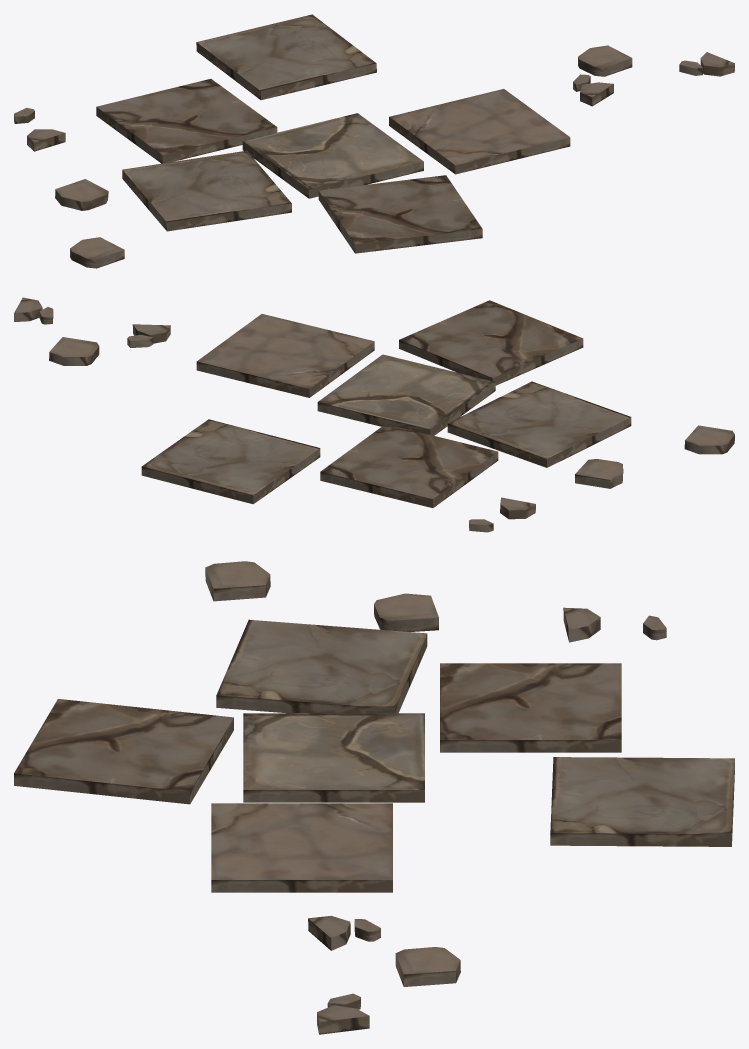
Rendered from handan_field_a_n02b.fbx.
3 views of the same model, one above another, from view 1: azimuth 30°, elevation 25°; view 2: azimuth 150°, elevation 25°; view 3: azimuth 270°, elevation 25° (orthographic). The views are drawn at different scales.
Visible parts, largest first — view 1: handan_field_a_n02b:handan_field_a_n02b; view 2: handan_field_a_n02b:handan_field_a_n02b; view 3: handan_field_a_n02b:handan_field_a_n02b.
Boxes of the visible parts, x1=… form: handan_field_a_n02b:handan_field_a_n02b: x1=14, y1=14, x2=734, y2=268; handan_field_a_n02b:handan_field_a_n02b: x1=14, y1=297, x2=734, y2=532; handan_field_a_n02b:handan_field_a_n02b: x1=14, y1=561, x2=734, y2=1034.
Bounding box in the file's own units: 470 × 9.06 × 311.
